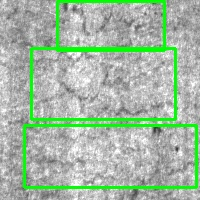crazing: (24, 125, 196, 187), (31, 48, 175, 119), (57, 1, 164, 50)
